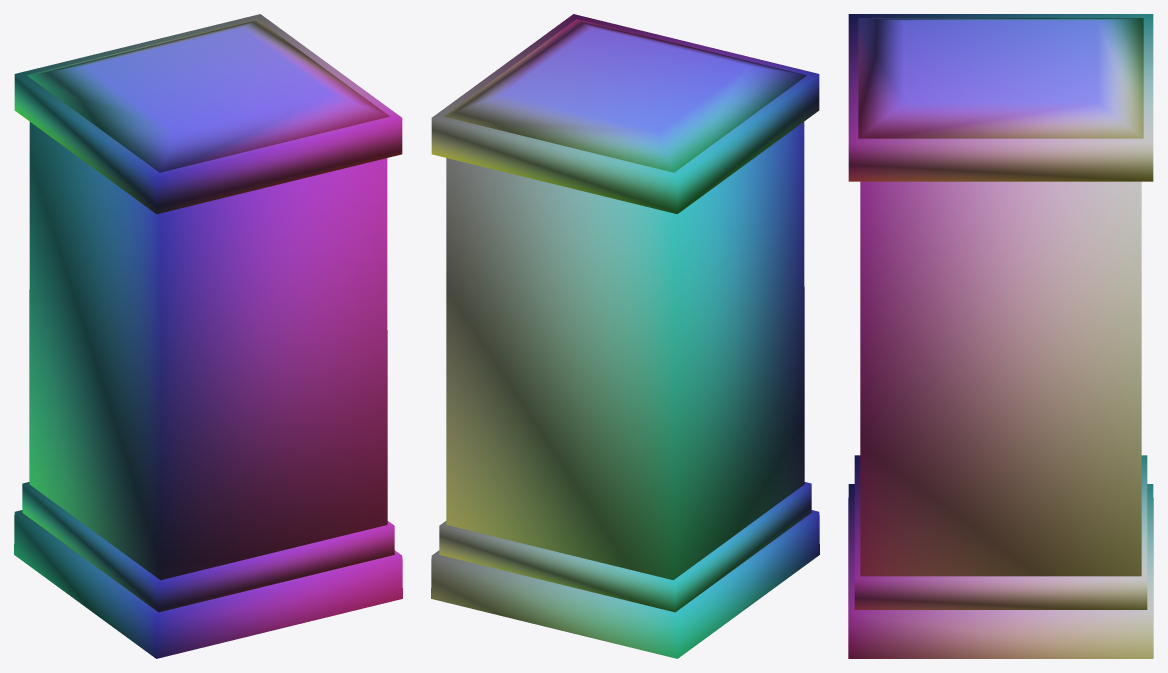
The model's file is SM_Pit_WallPier.fbx.
The picture shows the model from 3 angles, left to right: view 1: azimuth 30°, elevation 25°; view 2: azimuth 150°, elevation 25°; view 3: azimuth 270°, elevation 25°; orthographic projection. The views are drawn at different scales.
Visible parts, largest first — view 1: SM_Pit_WallPier; view 2: SM_Pit_WallPier; view 3: SM_Pit_WallPier.
Part boxes in pixels (x1=…): SM_Pit_WallPier: x1=14, y1=14, x2=402, y2=658; SM_Pit_WallPier: x1=431, y1=14, x2=819, y2=658; SM_Pit_WallPier: x1=848, y1=14, x2=1153, y2=658.
Bounding box in the file's own units: 1.24 × 2.39 × 1.24.
